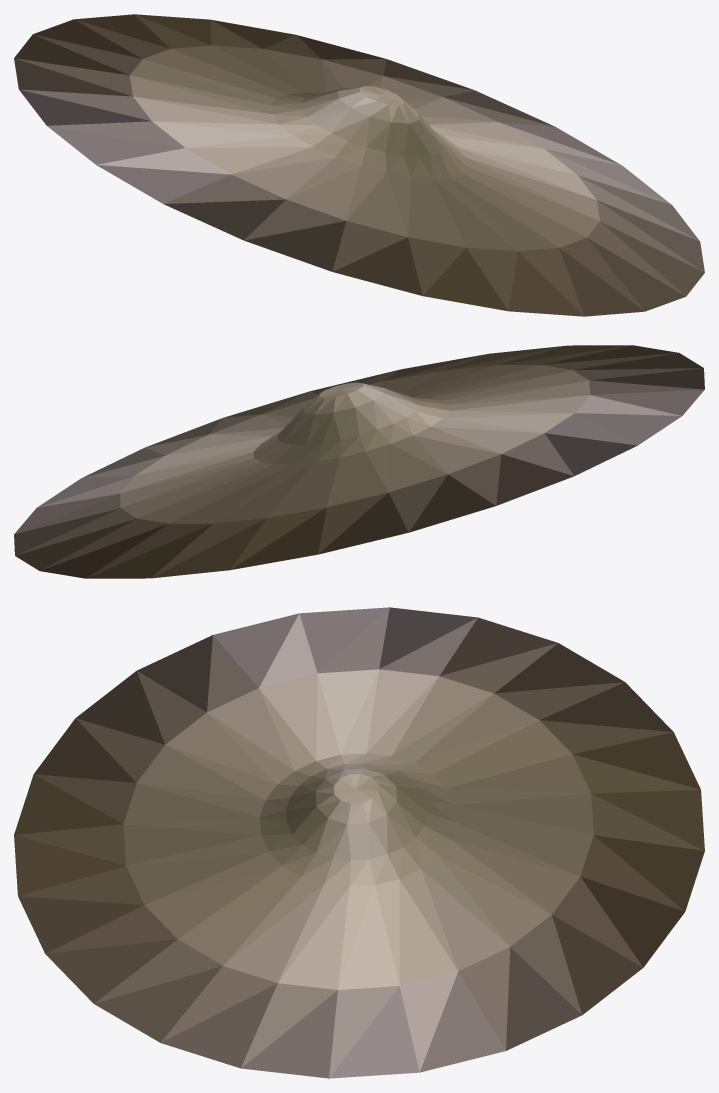
File: cymbal4-head.fbx
The picture shows the model from 3 angles, top to bottom: view 1: azimuth 30°, elevation 25°; view 2: azimuth 150°, elevation 25°; view 3: azimuth 270°, elevation 25°; orthographic projection. The views are drawn at different scales.
Parts seen in each view (by area): view 1: polySurface792; view 2: polySurface792; view 3: polySurface792.
Part boxes in pixels (left/top/right/bottom): polySurface792: left=14, top=14, right=704, bottom=316; polySurface792: left=14, top=345, right=704, bottom=578; polySurface792: left=14, top=607, right=704, bottom=1078.
Bounding box in the file's own units: 75.74 × 24.51 × 79.51.
